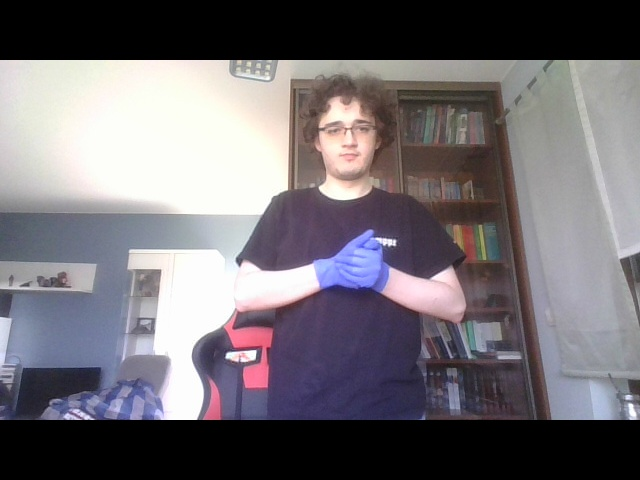glove: (337, 221, 396, 312), (310, 229, 371, 304)
